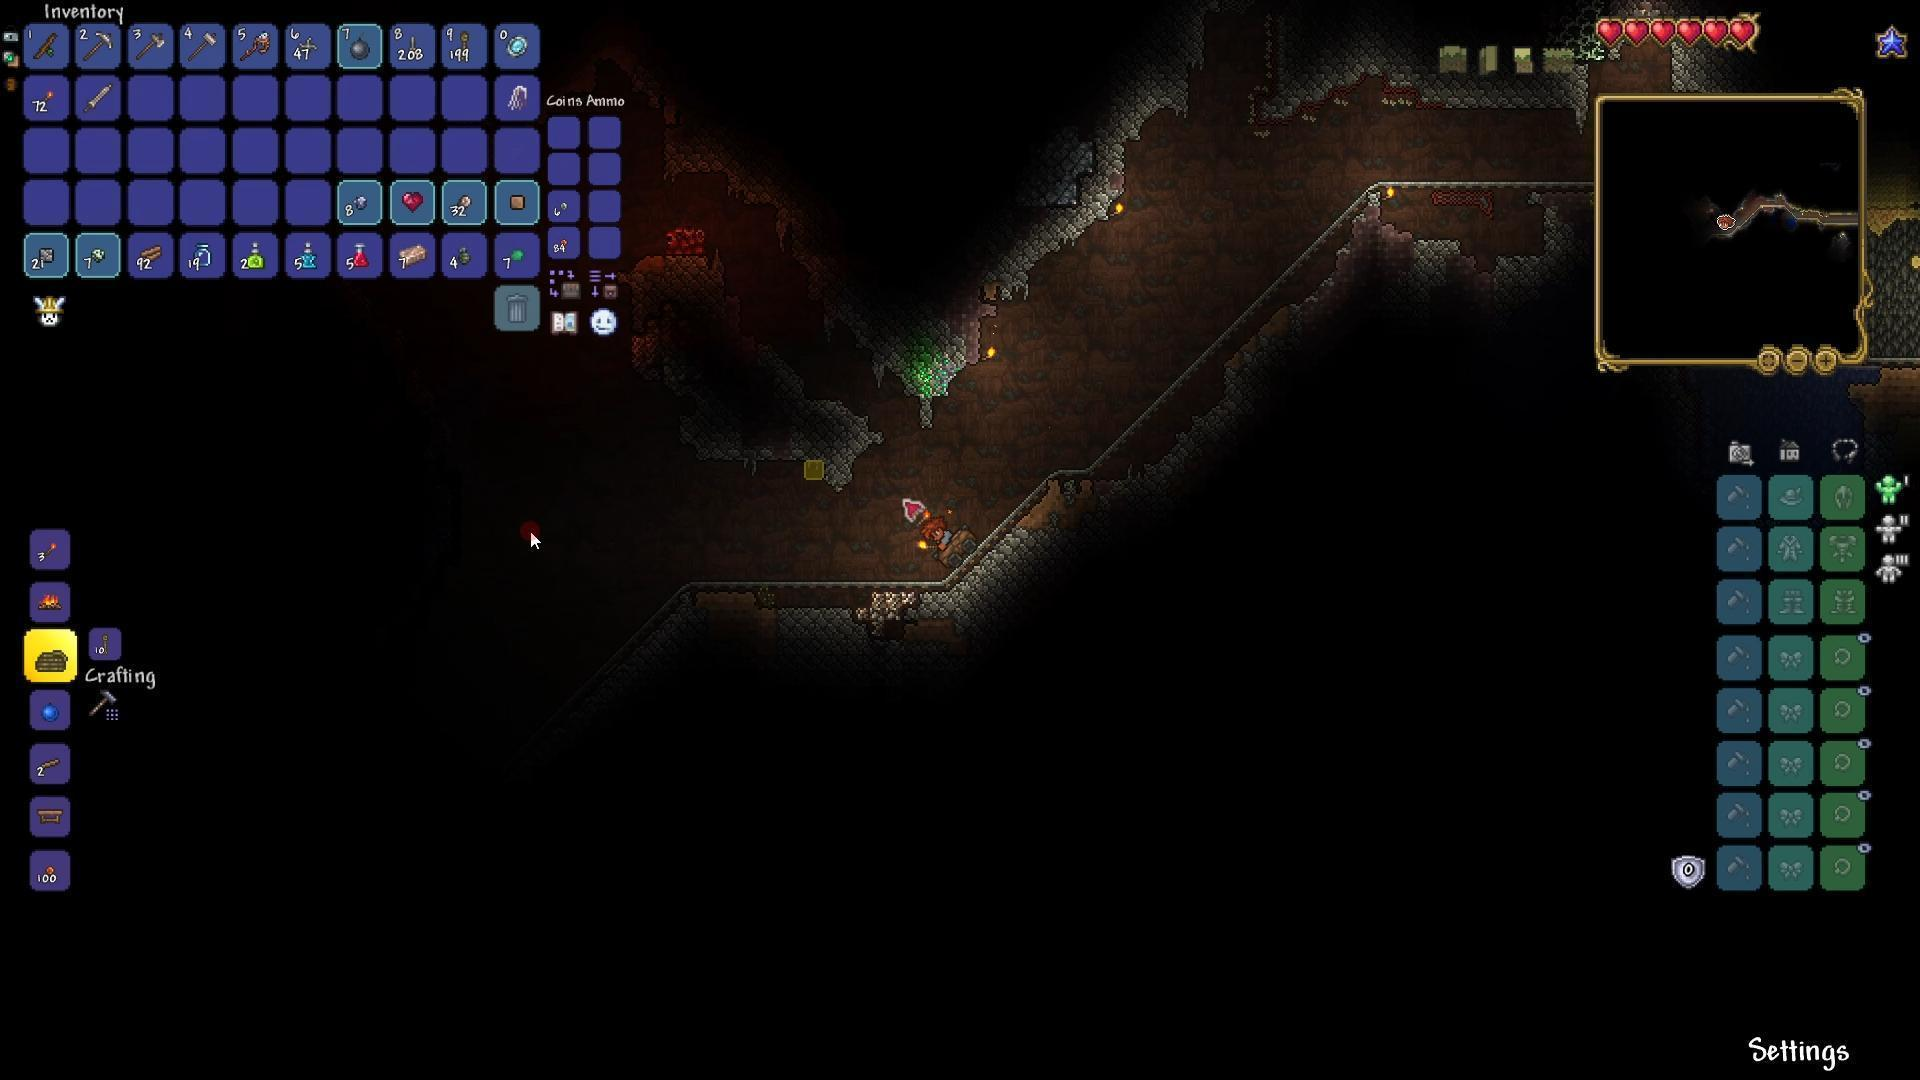altar: (655, 219, 720, 258)
axe: (131, 32, 167, 62)
bomb: (348, 32, 372, 58)
wood: (138, 239, 166, 265)
workbench: (36, 806, 65, 827)
